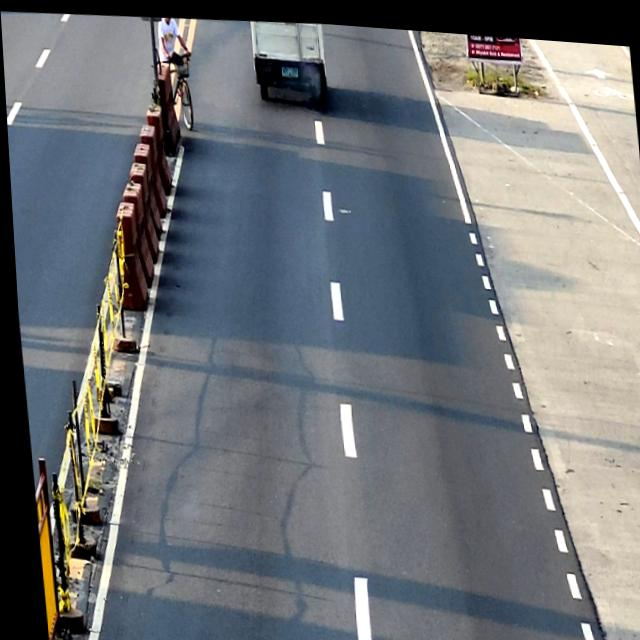Bicycle: (164, 46, 196, 130)
Car: (248, 14, 329, 102)
License-Plate: (280, 61, 298, 74)
